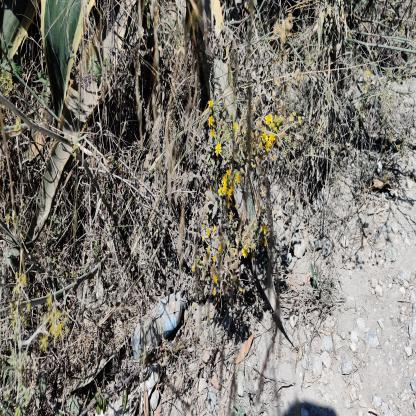plastik: (132, 291, 187, 361)
